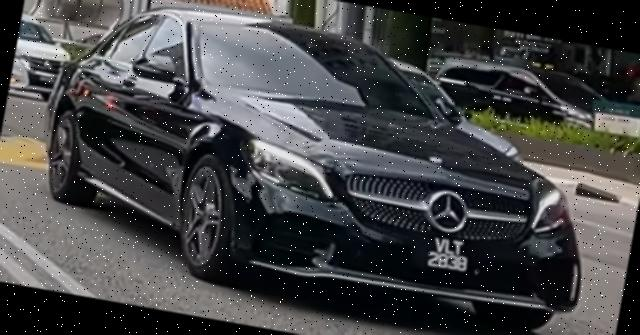License_Plate: (414, 233, 484, 276)
car: (20, 1, 640, 335)
